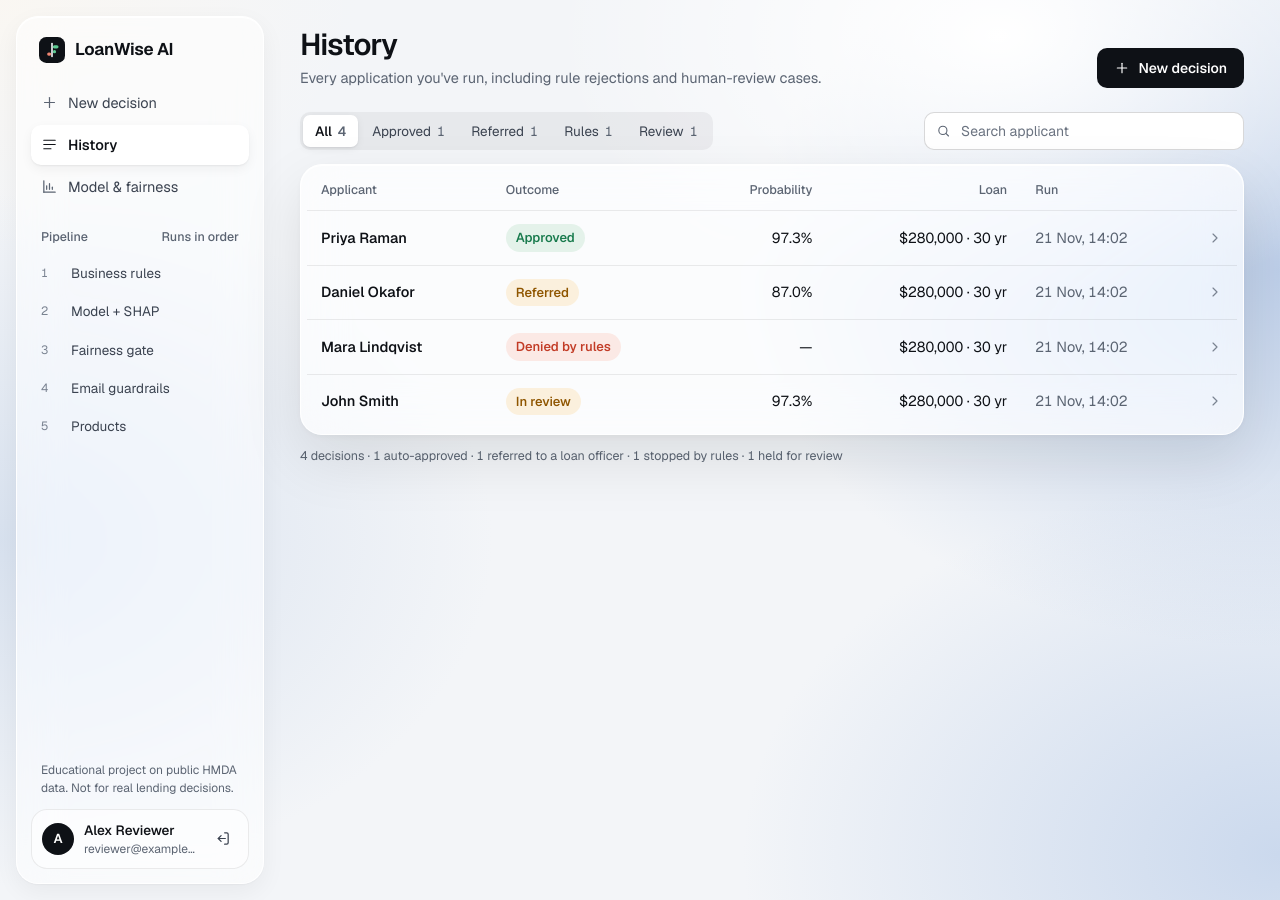
Test: History › filters by outcome and searches by name
The image size is (1280, 900).
Expected: the link "Priya Raman" is shown, [321, 228, 407, 247]
Click the radio button labelled "Rules 1" at x=589, y=131, box [564, 122, 613, 140]
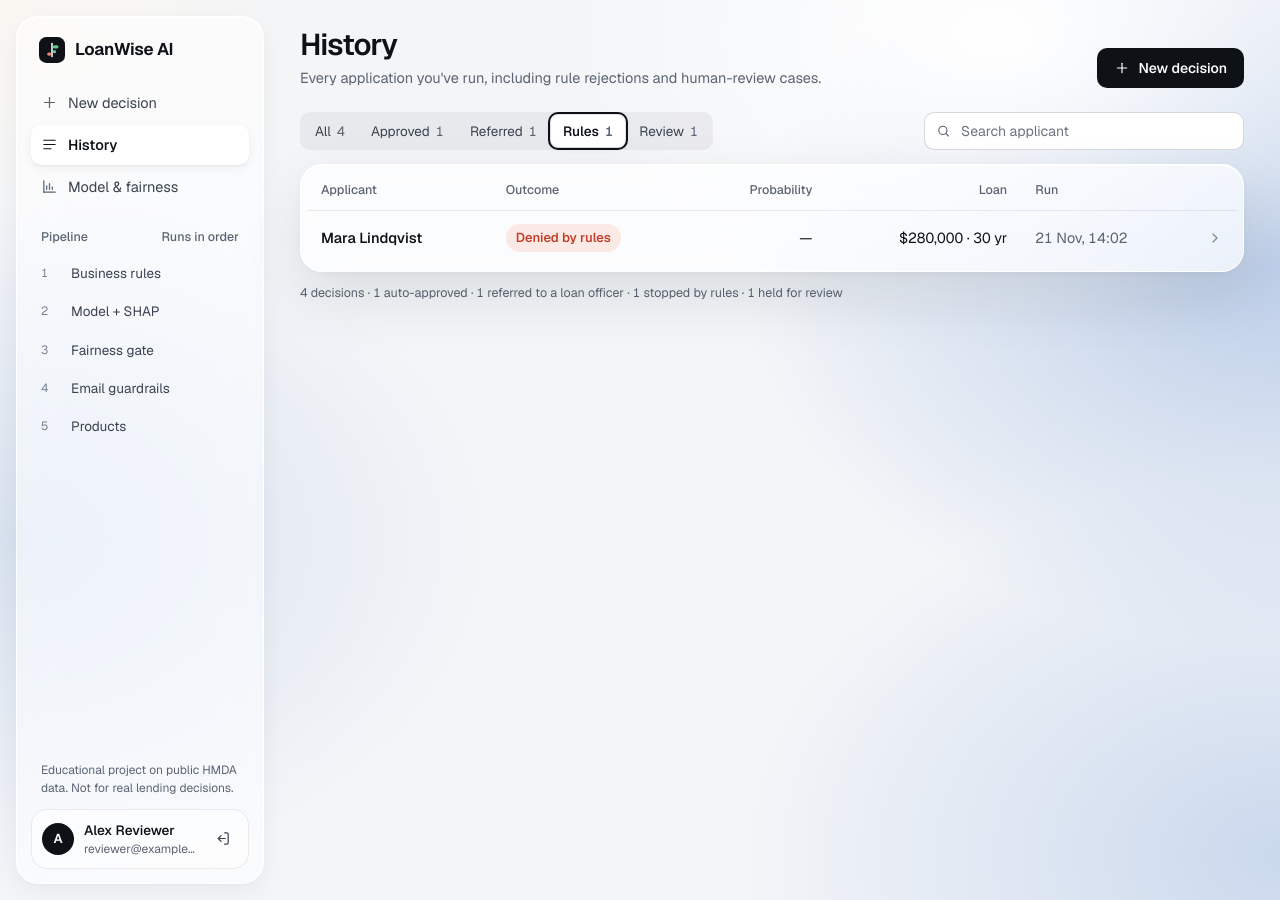
Expected: the link "Mara Lindqvist" is shown, [321, 228, 422, 247]
Expected: the link "Priya Raman" is gone
Click the radio button labelled "All 4" at x=330, y=131, box [315, 122, 345, 140]
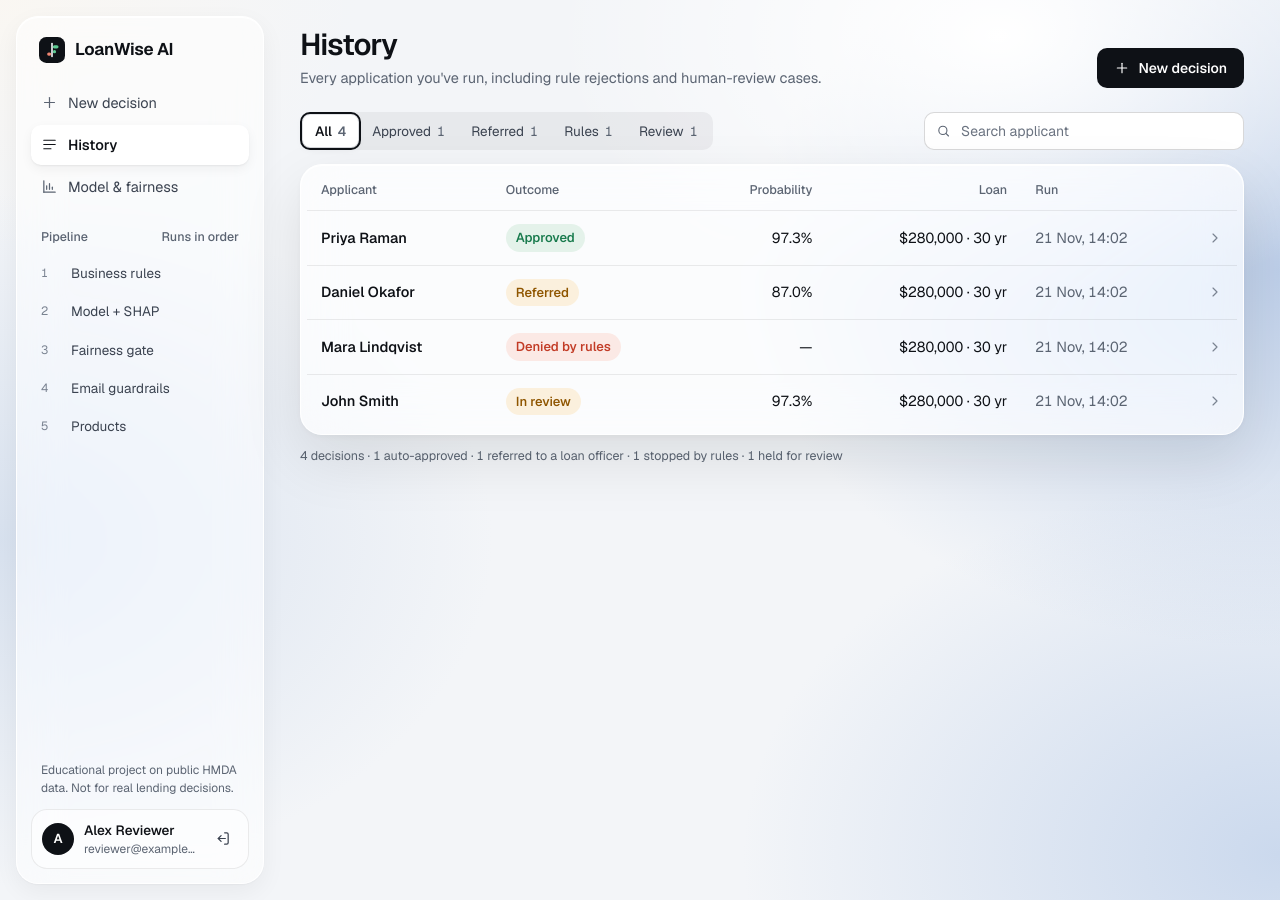
Type "okaf" into the search field labelled "Search applicant" at x=1084, y=131, box [924, 112, 1244, 150]
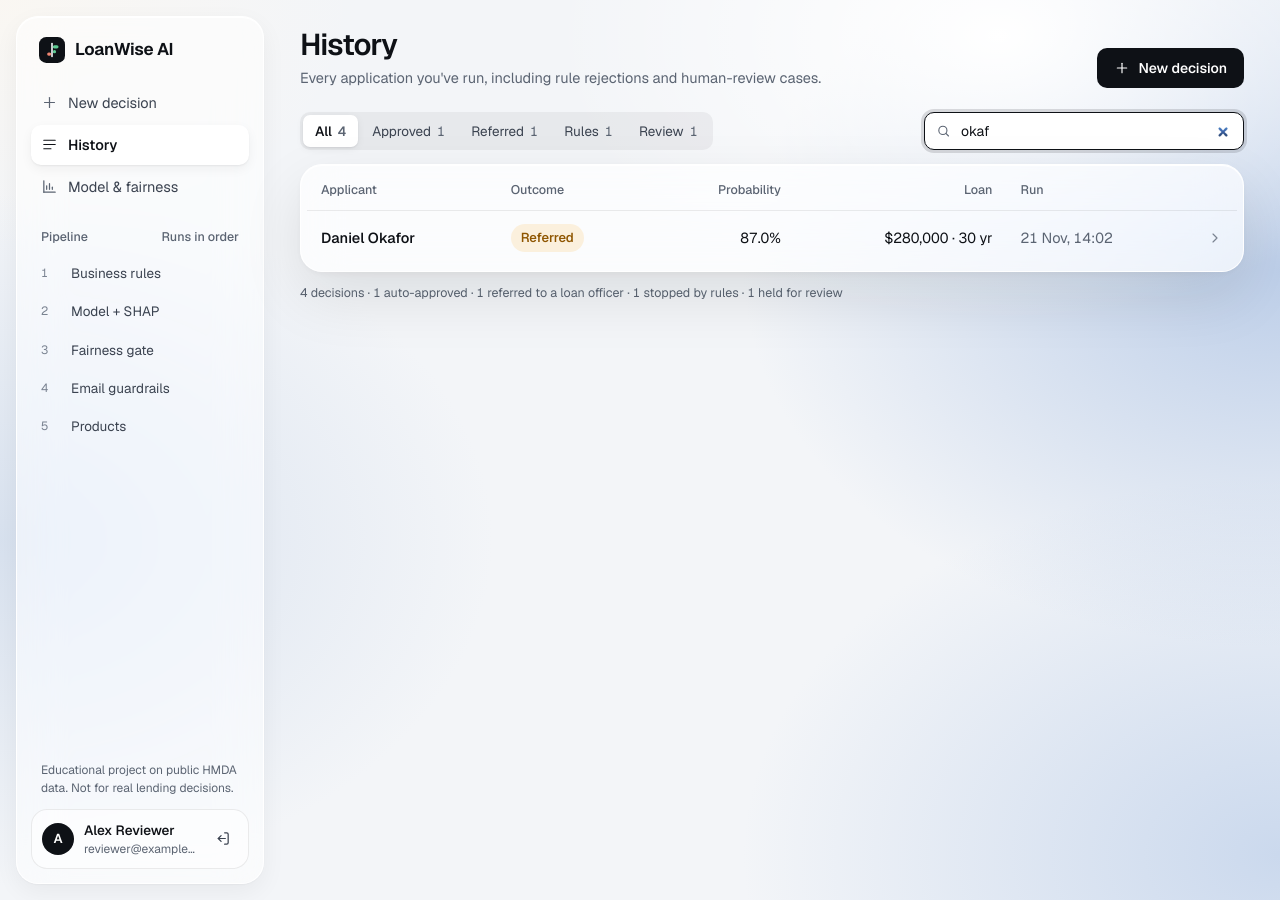
Expected: the link "Daniel Okafor" is shown, [321, 228, 415, 247]
Expected: the link "John Smith" is gone
